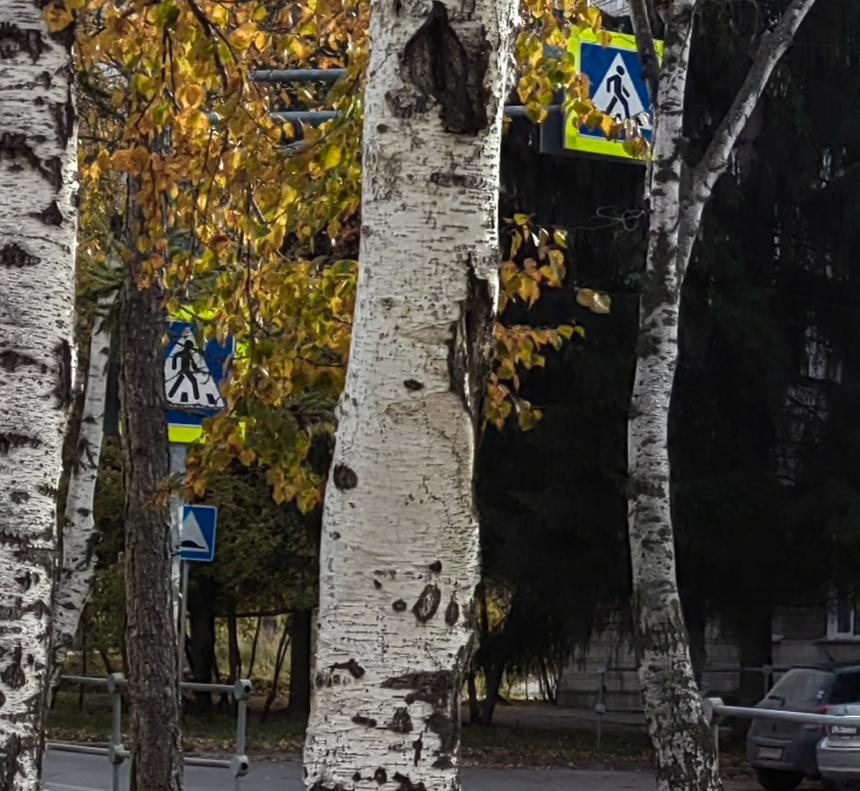obstructed_road_sign: (564, 23, 664, 161), (162, 303, 246, 445), (180, 505, 217, 561)
